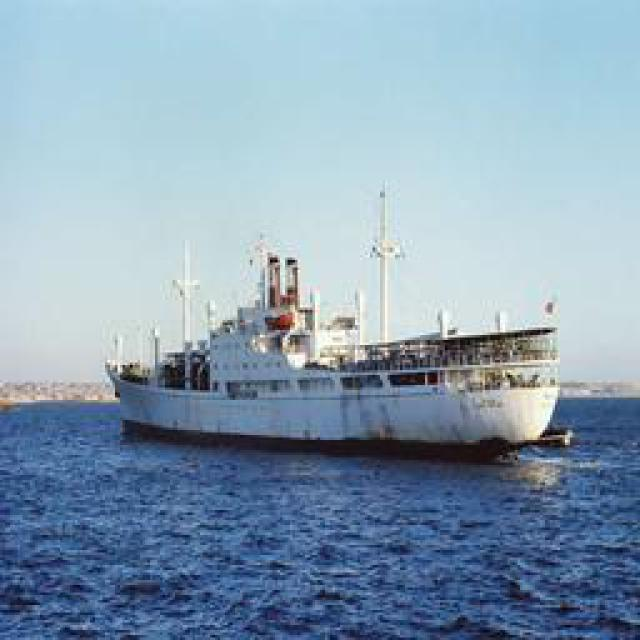Ship: (111, 186, 561, 469)
